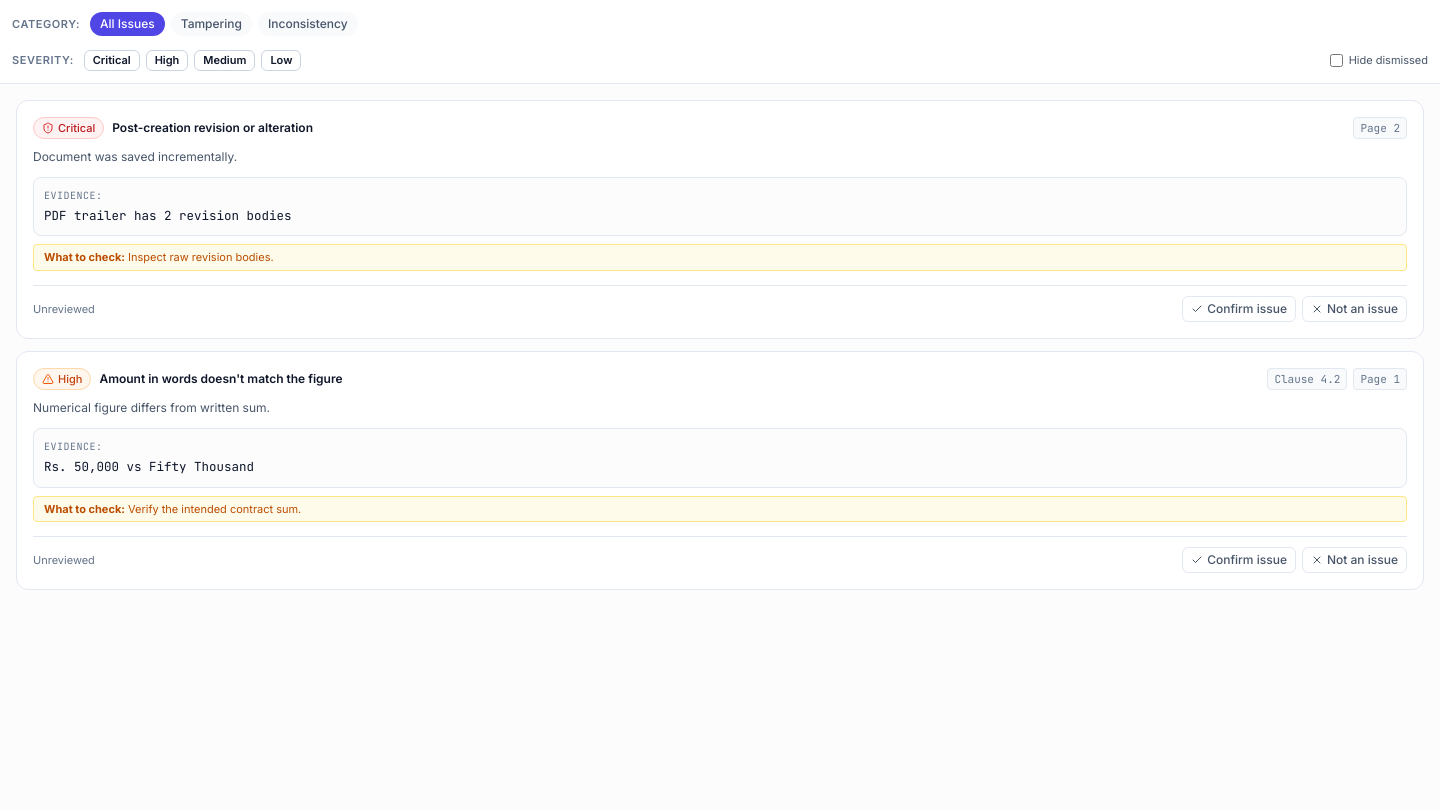
Test case: FindingsTab › filters findings by category chip
The image size is (1440, 810).
Note: Click 'tampering' filter chip
Click the button "tampering": (211, 24) x1=171 y1=12 x2=252 y2=36
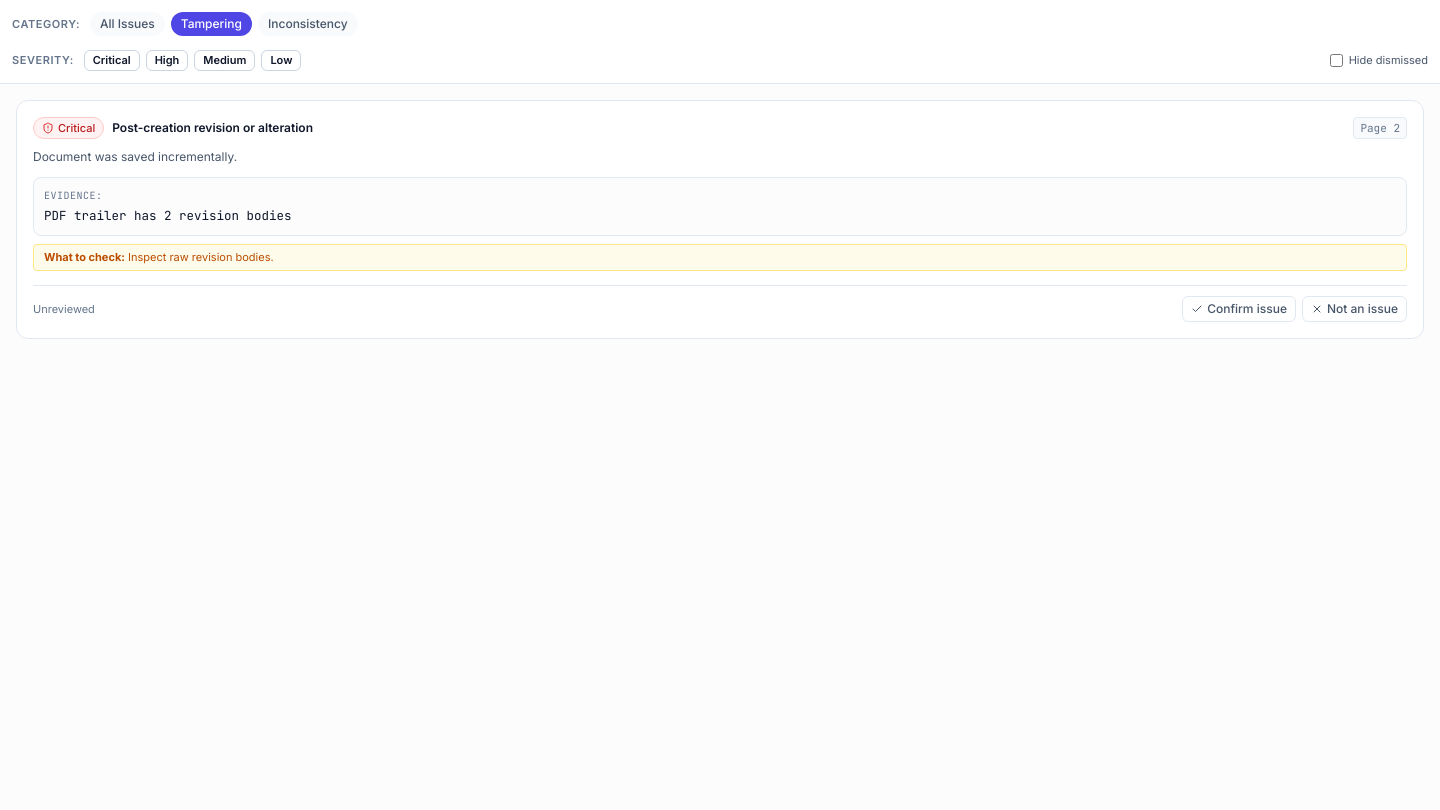
expect the text "Post-creation revision or alteration" is shown: met, box x1=112 y1=120 x2=313 y2=136
expect the text "Amount in words doesn't match the figure" is gone: met
